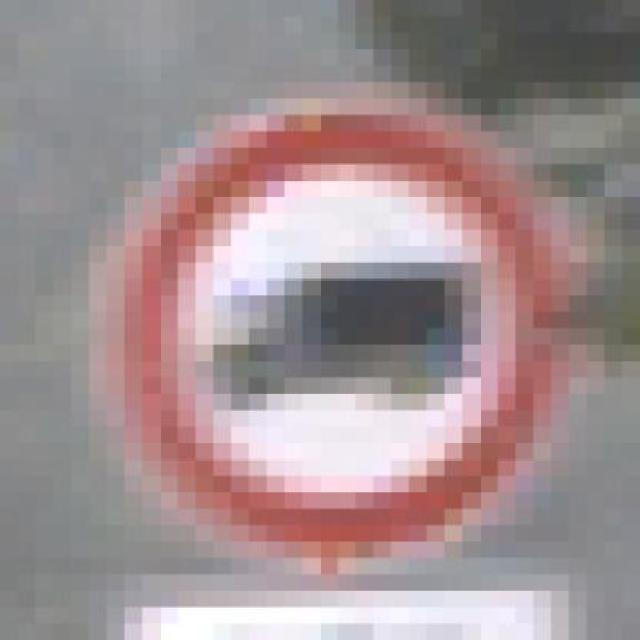Truck traffic is prohibited: (70, 99, 604, 558)
